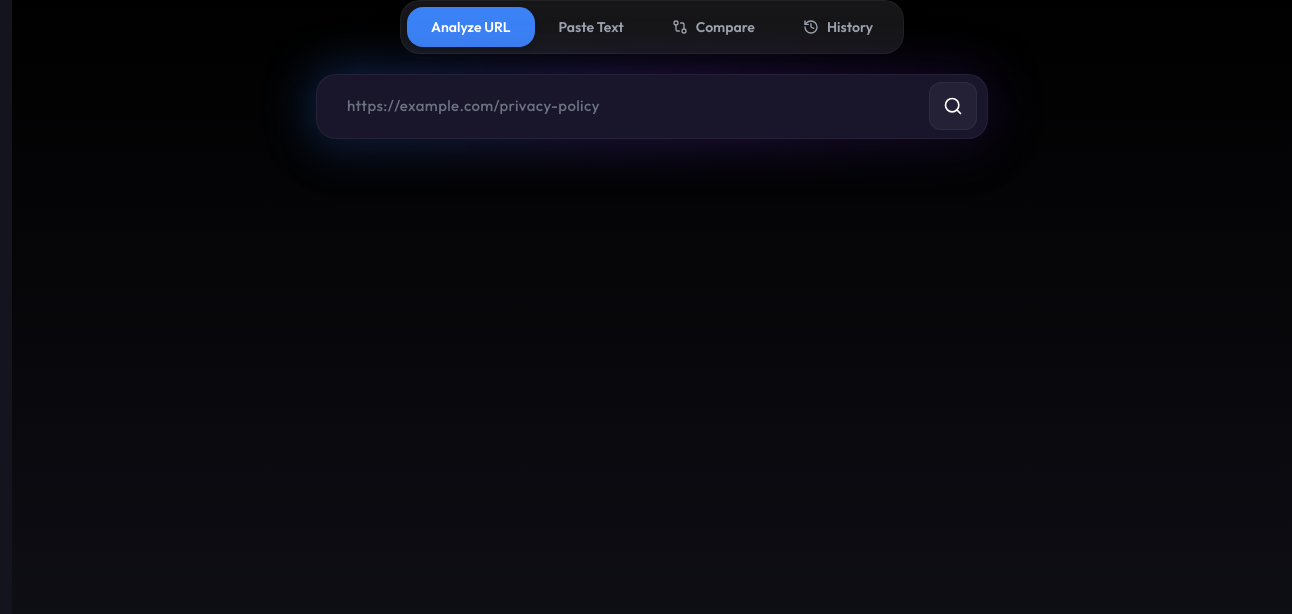
Test: PolicyAnalyzer Component › submits URL and displays analysis results
The image size is (1292, 614).
Type "https://example.com/privacy" into the field named "Privacy Policy URL".
click(626, 106); type("https://example.com/privacy")  # box top-left (323, 81), bottom-right (929, 132)
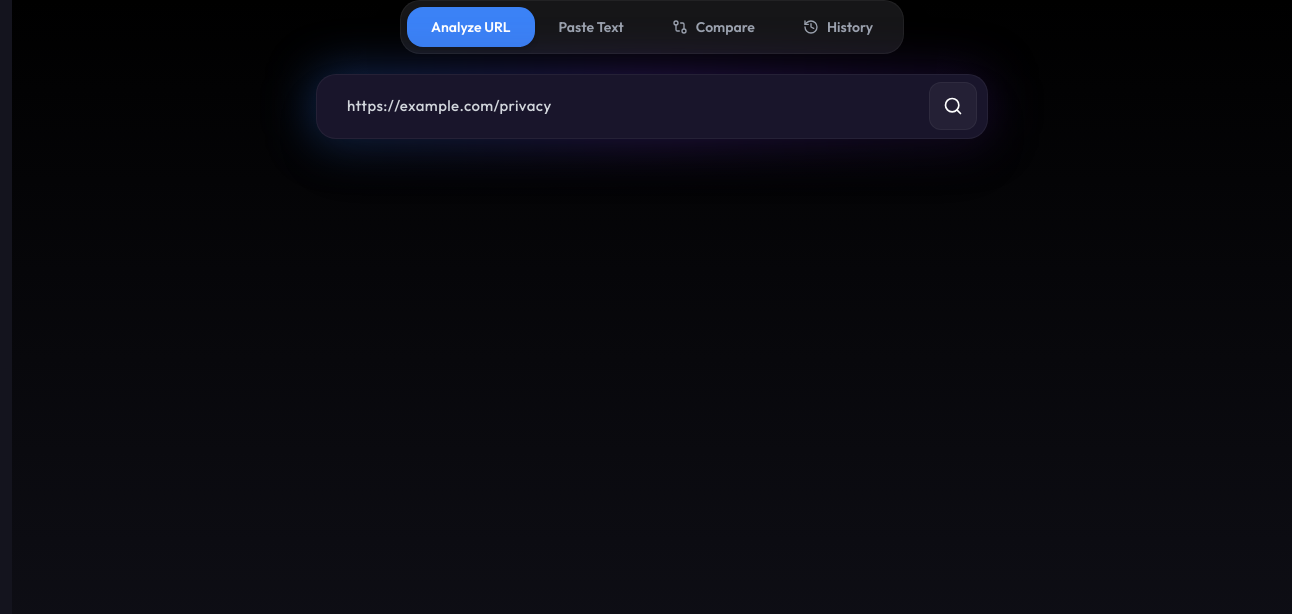
Click the button named "Analyze URL".
click(953, 106)  # box top-left (929, 82), bottom-right (977, 130)
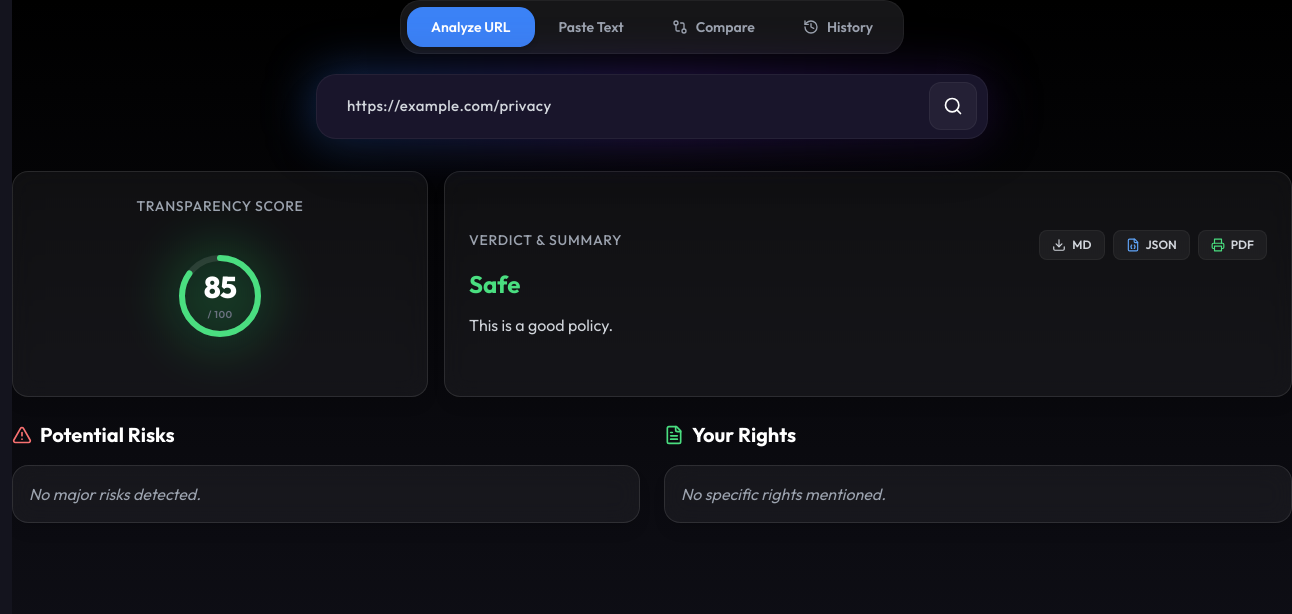
expect the text "85" is shown: met, box top-left (204, 269), bottom-right (236, 305)
expect the heading "Safe" is shown: met, box top-left (469, 268), bottom-right (520, 298)
expect the text "This is a good policy." is shown: met, box top-left (469, 314), bottom-right (613, 334)
